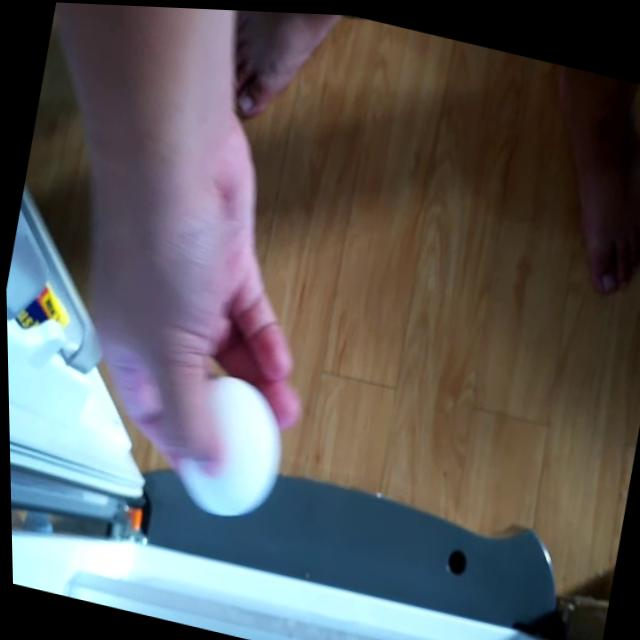egg: (161, 355, 297, 527)
